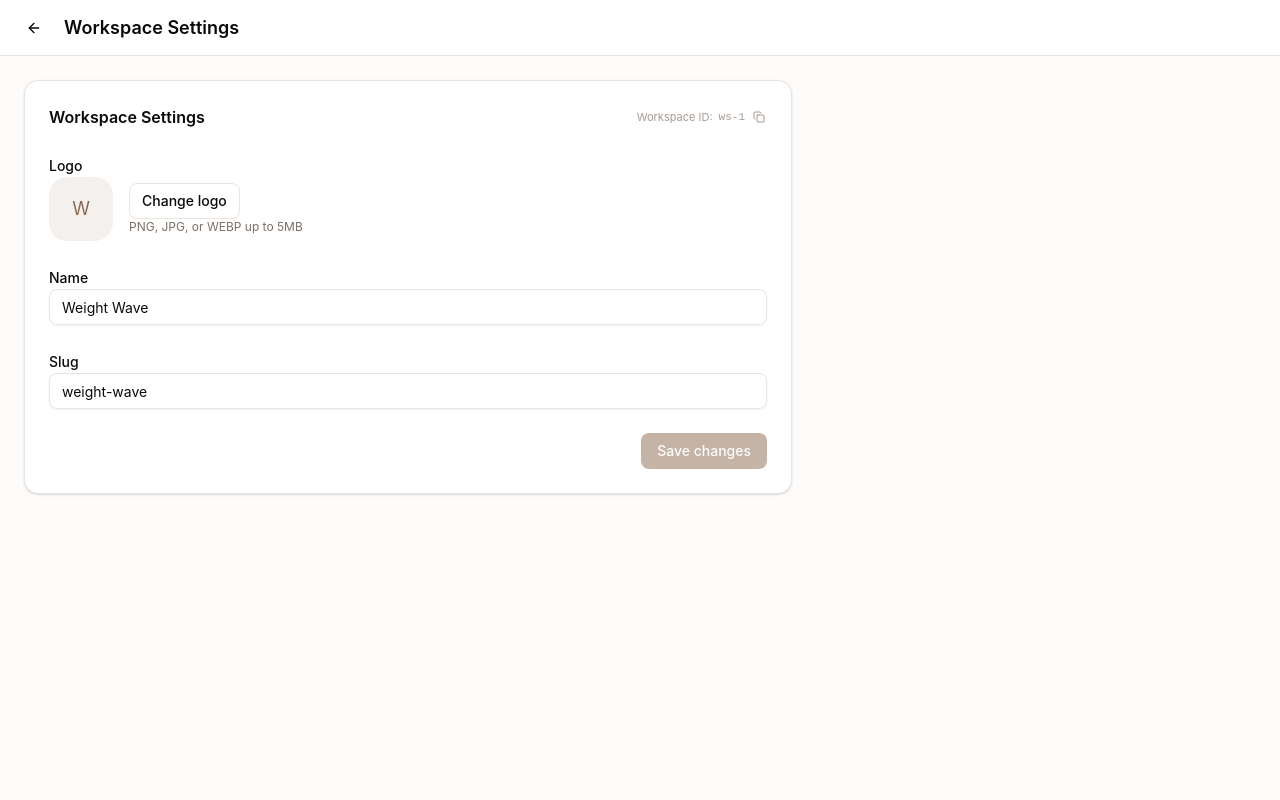
Scenario: WorkspaceSettingsContent › shows error when save fails
Replace the text in the field labelled "Name" with "New Name": point(408, 307) [49,289,767,325]
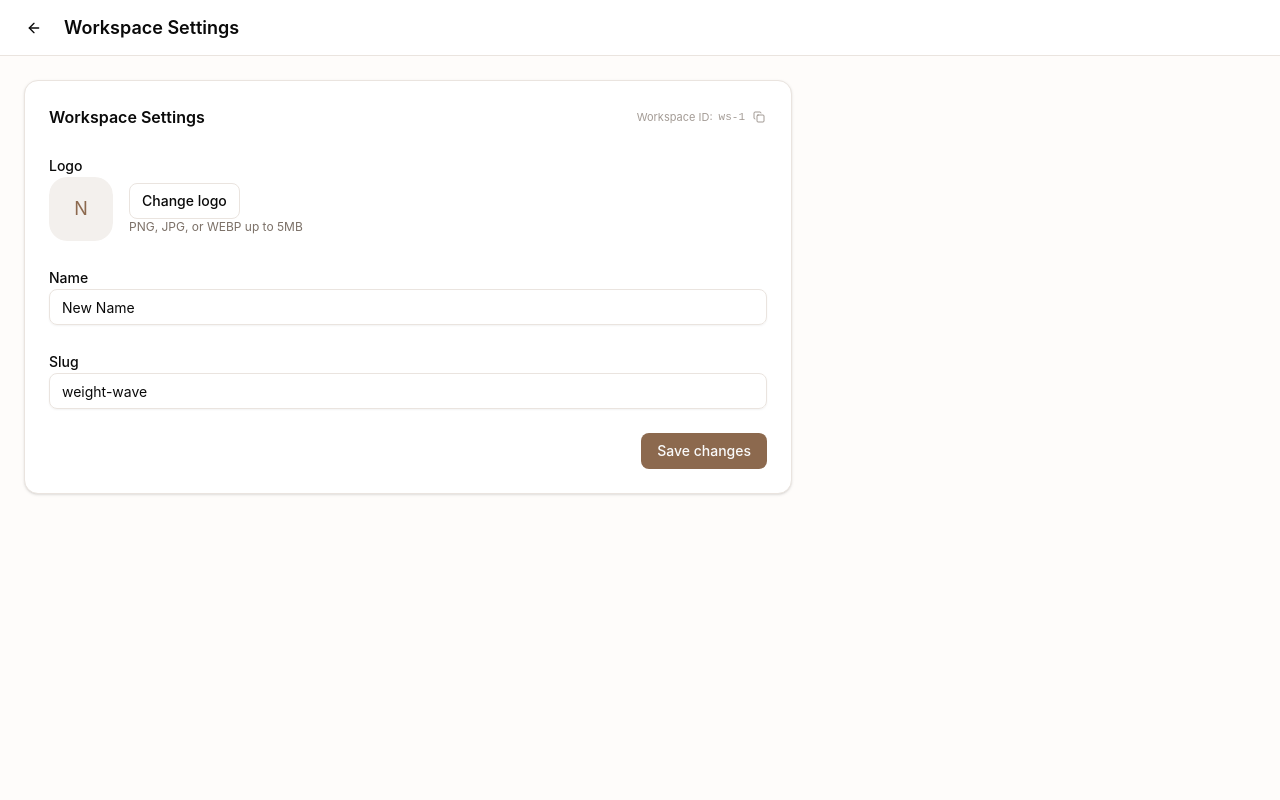
Click the button "Save changes": point(704, 451) [641,433,767,469]
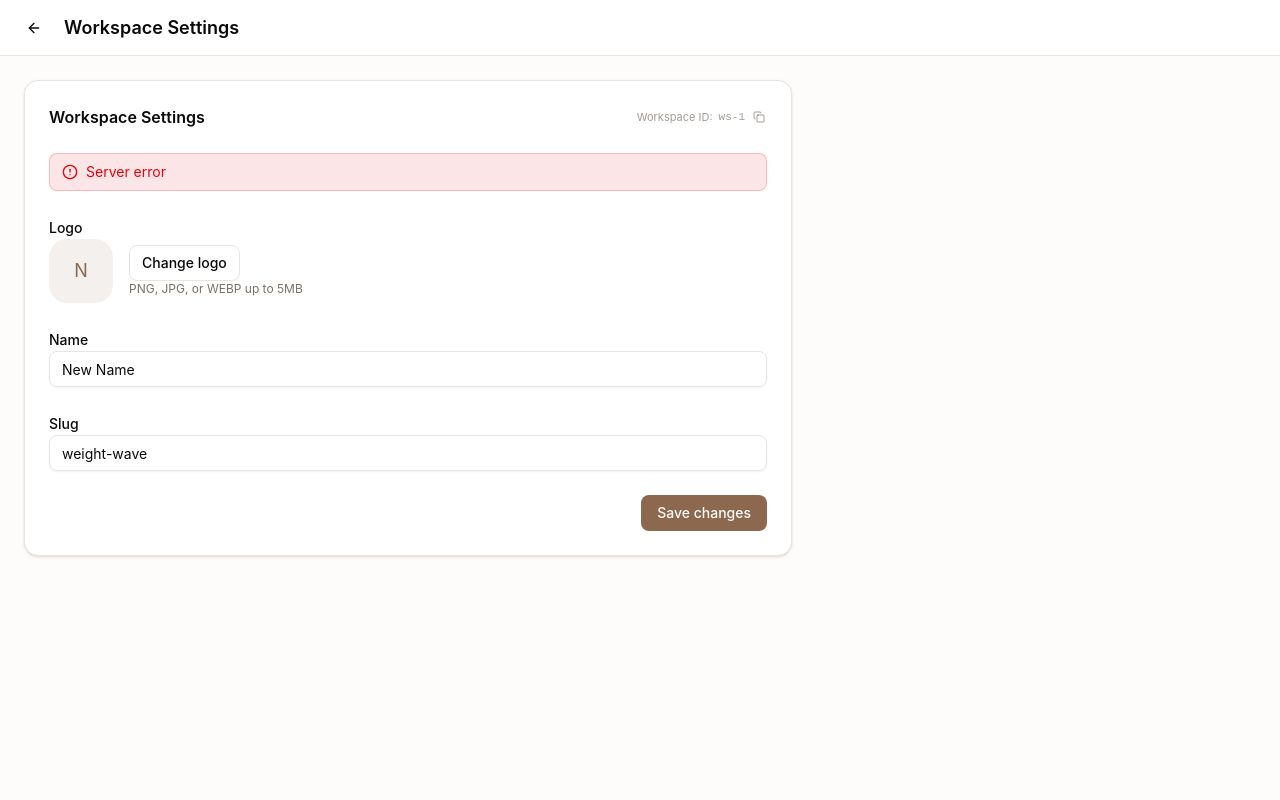
expect the text "Server error" is shown: met, box [49,153,767,191]
